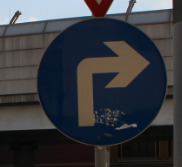right_turn: (37, 18, 168, 146)
